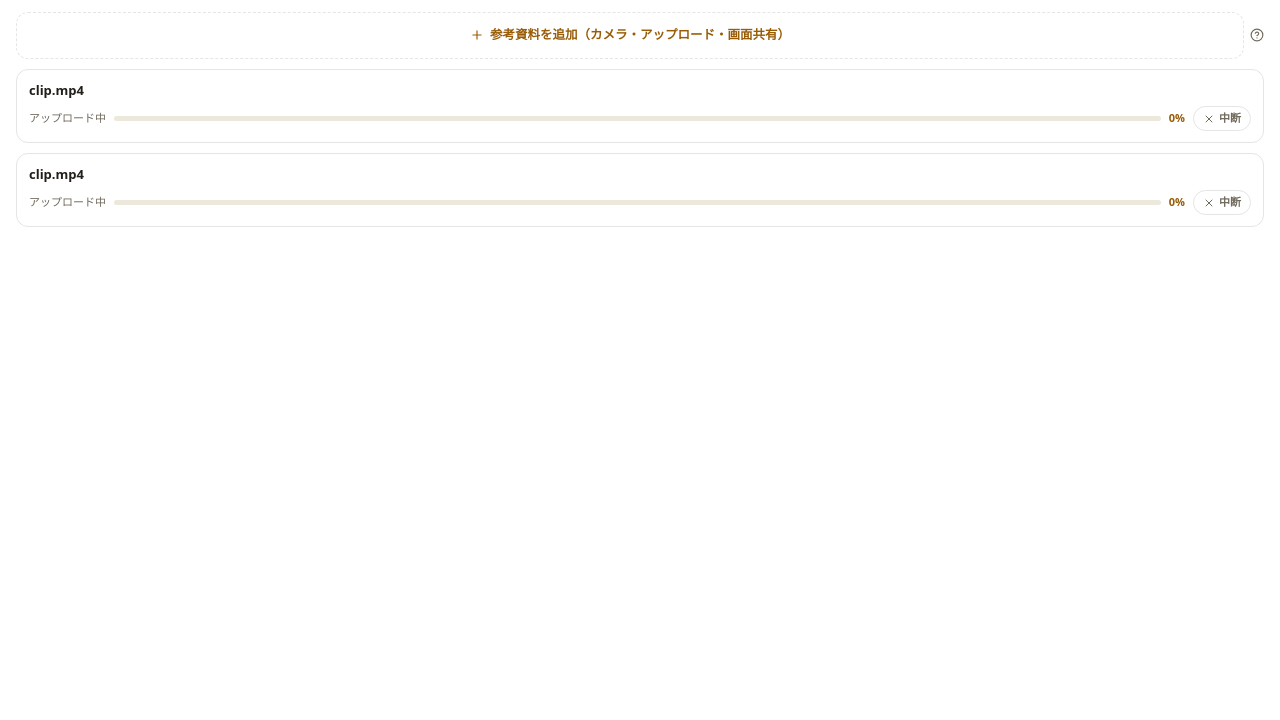
Test case: MaterialsList（参考資料タブ・解析進捗つき） › 中断（✕ 中断） › 同名の別素材へ中断対象をすり替えない（一意 id で追跡・Codex P2）
The width and height of the screenshot is (1280, 720).
Click the button with aria-label "clip.mp4 の解析を中断" at [1222, 119], box [1193, 106, 1251, 131]
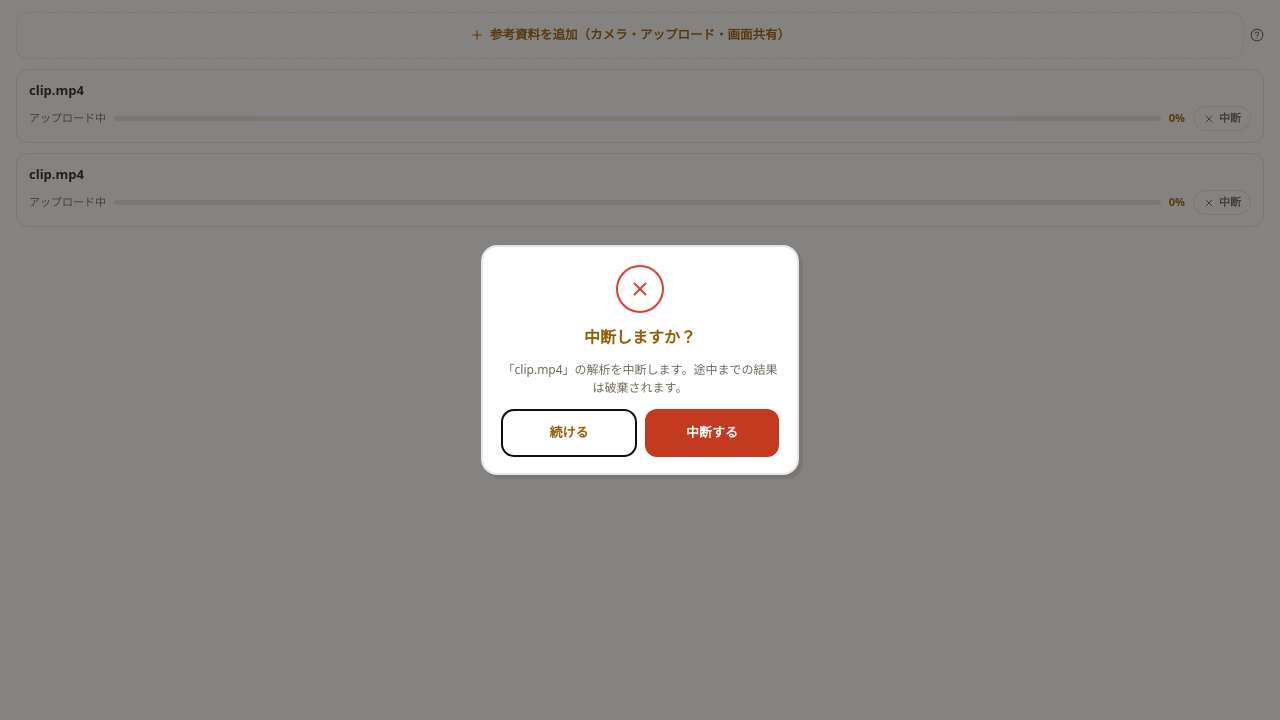
Expected: the dialog is shown, [481, 245, 799, 475]
